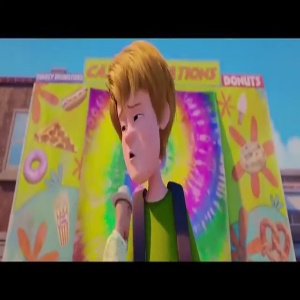Shagy: (96, 40, 197, 183)
